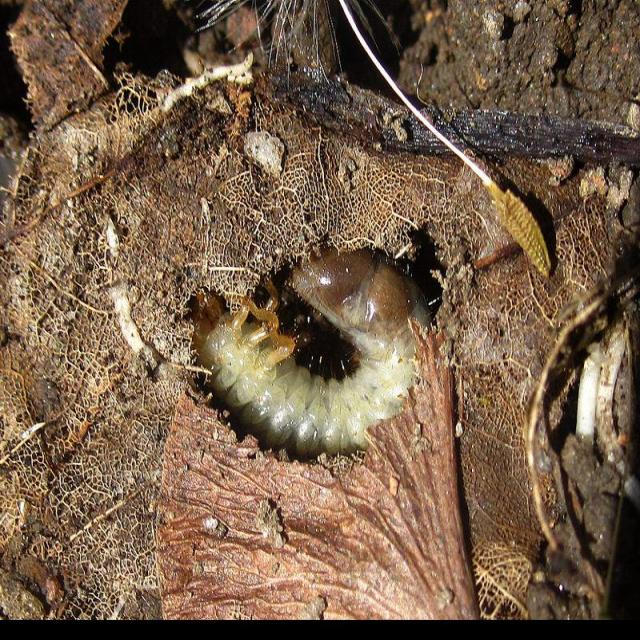Grub-Adult-: (182, 222, 446, 452)
